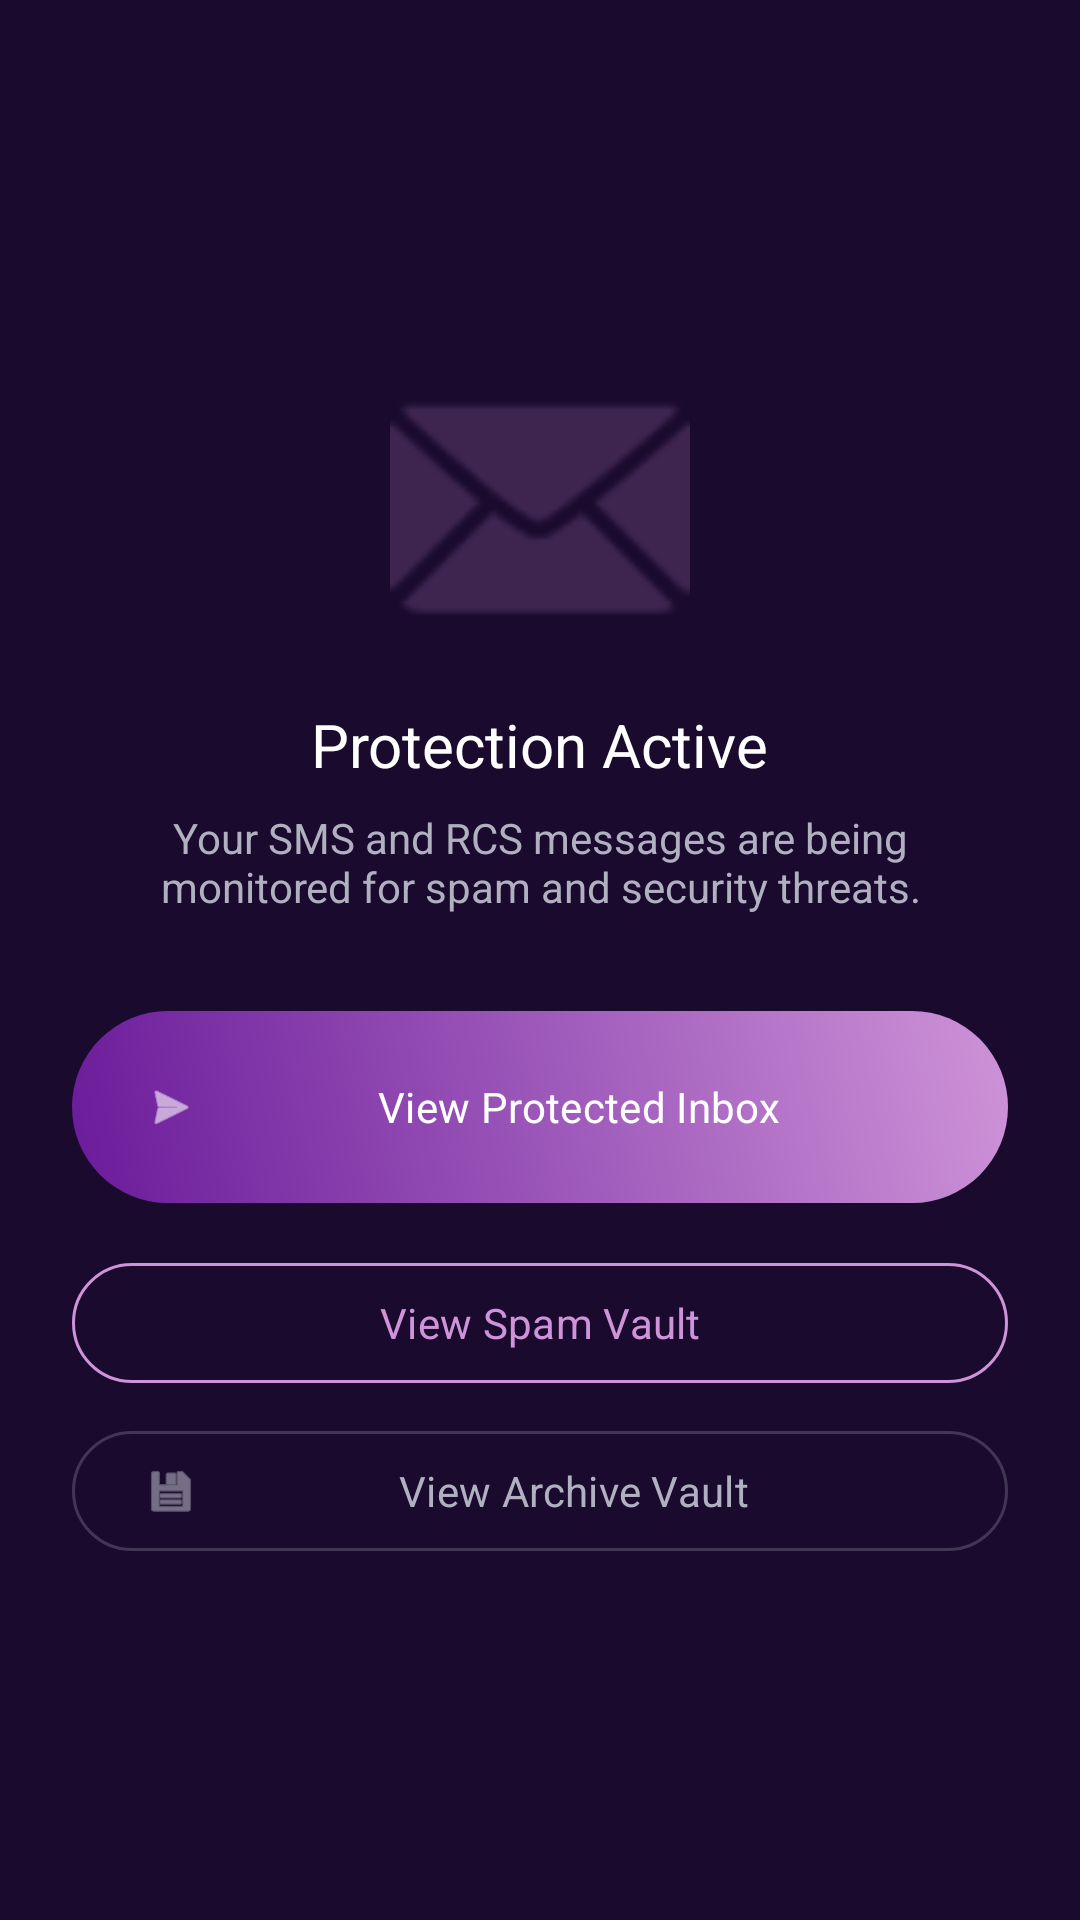

Screen size 1080w x 1920h. Icon name, then its box in pixels as (x1, y1, x2, y2):
email: (390, 408, 690, 611)
